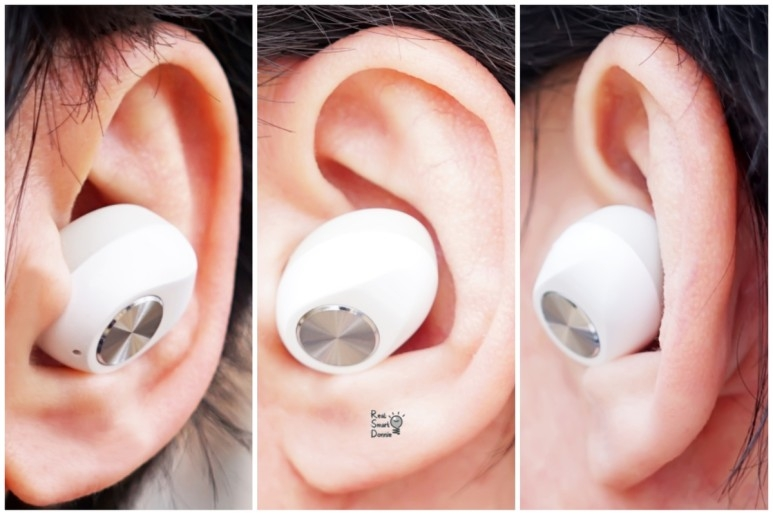earphone: (267, 26, 516, 494), (6, 18, 242, 508), (531, 25, 736, 484)
